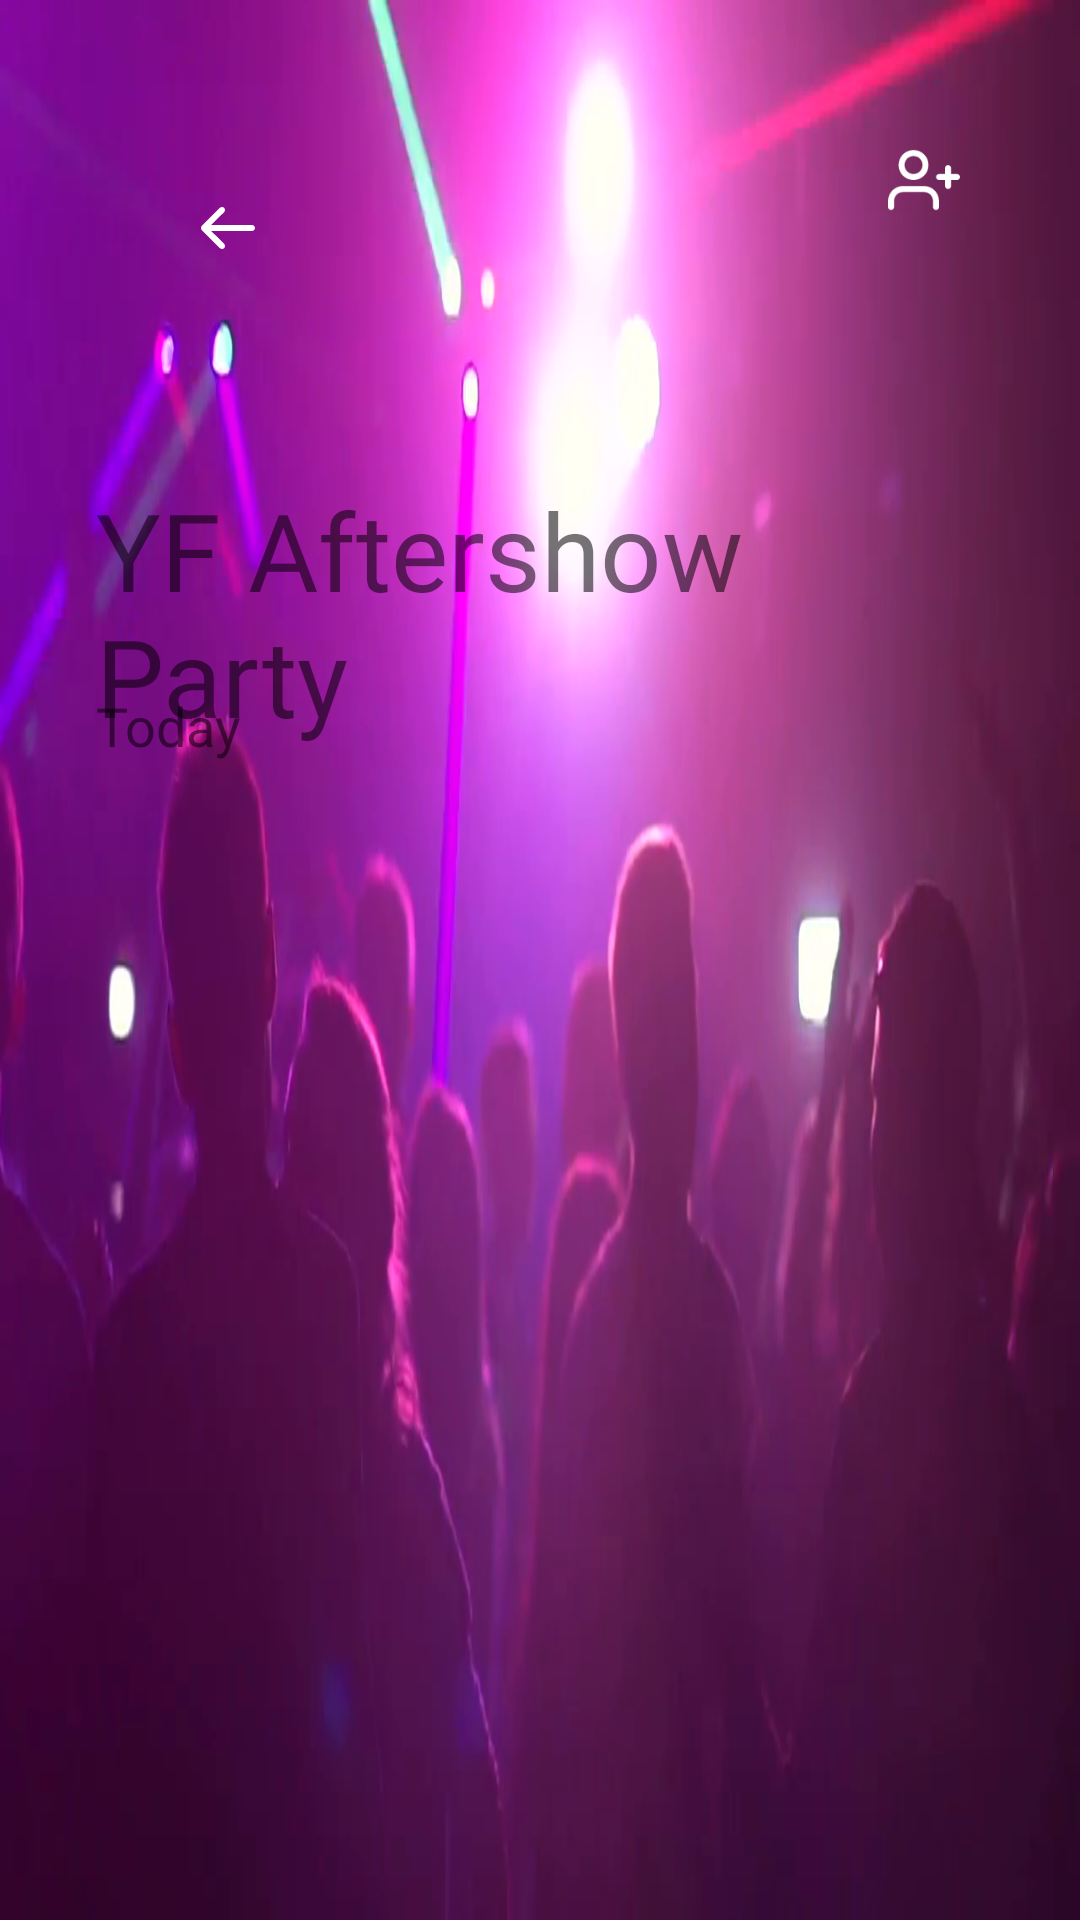

Screen size 1080px×1920px. Icon name, then its box in pixels as (x1, y1, x2, y2):
left: (201, 207, 255, 249)
plus: (888, 144, 960, 216)
